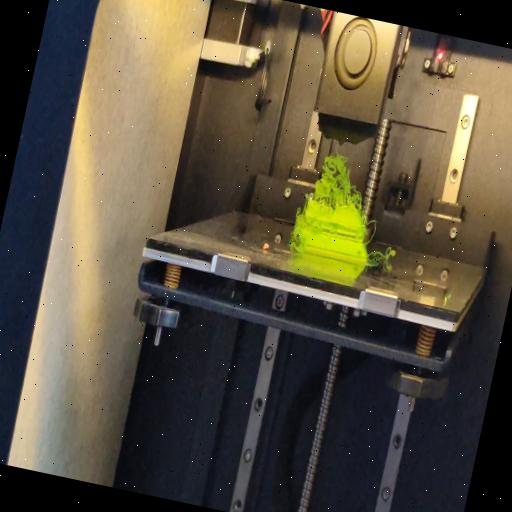spaghetti: (305, 145, 371, 212), (360, 212, 378, 244), (369, 241, 396, 259), (287, 238, 299, 256)
